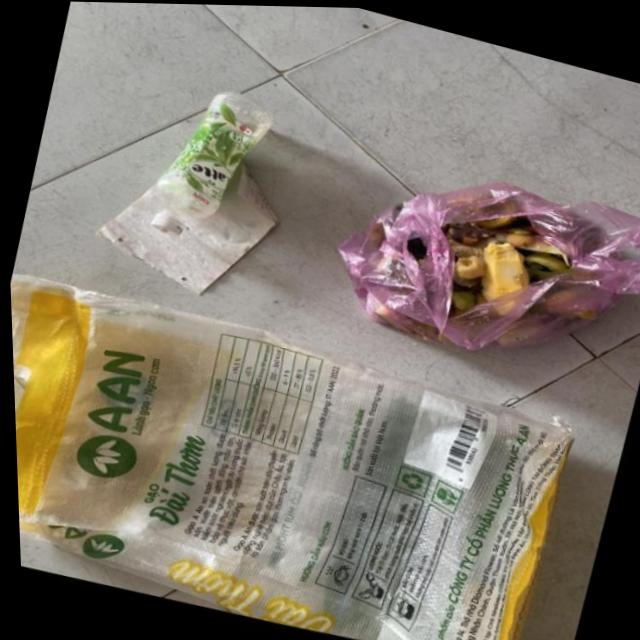fabric: (391, 193, 593, 335)
food: (78, 132, 297, 319)
leaf: (134, 54, 288, 268)
metal: (7, 236, 640, 640), (320, 115, 640, 413)
